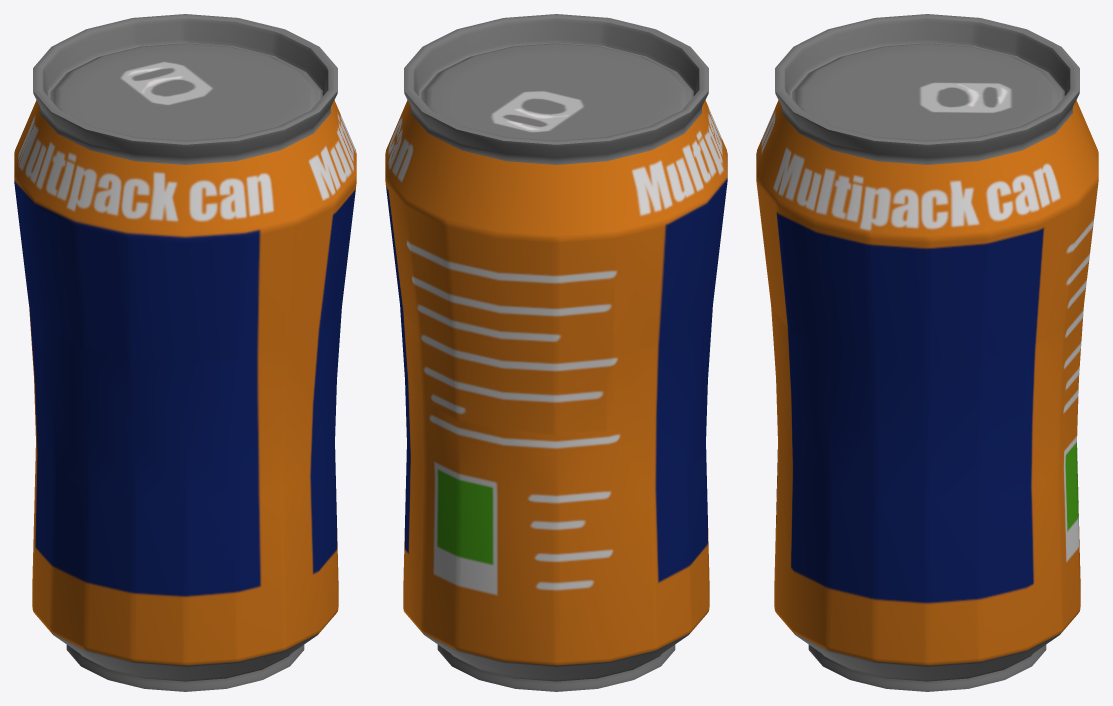
The model's file is can.fbx.
3 renders of one model, left to right at view 1: azimuth 30°, elevation 25°; view 2: azimuth 150°, elevation 25°; view 3: azimuth 270°, elevation 25°, orthographic.
Visible parts, largest first — view 1: irn bru Can; view 2: irn bru Can; view 3: irn bru Can.
Boxes of the visible parts, left/top/right/bottom form: irn bru Can: left=14, top=14, right=356, bottom=691; irn bru Can: left=385, top=14, right=727, bottom=691; irn bru Can: left=756, top=14, right=1098, bottom=691.
Bounding box in the file's own units: 12.78 × 22.85 × 12.59.
